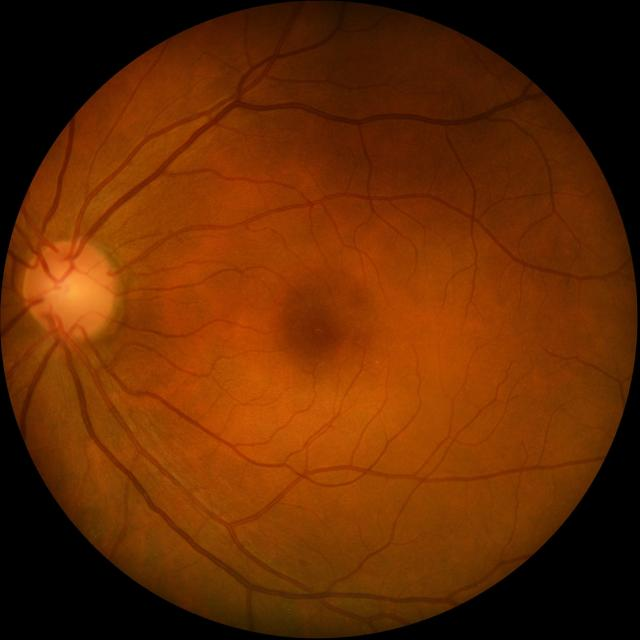OC: (45, 266, 94, 316)
OD: (22, 240, 116, 339)
